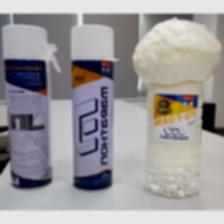aerosol_cans: (0, 21, 55, 192), (67, 21, 120, 194)
